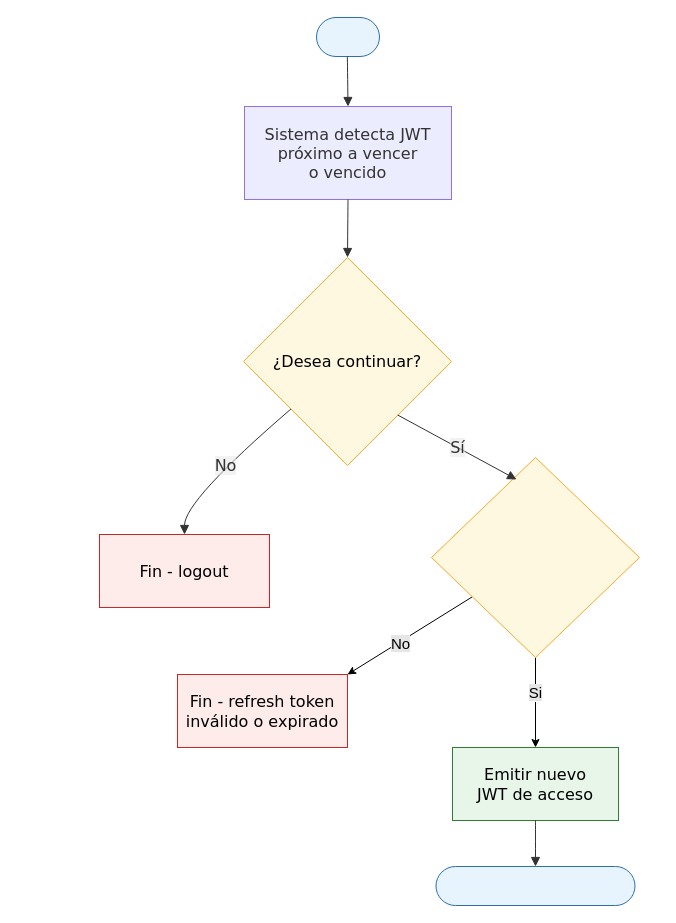
This 676x923 diagram has some shape labels left out. Each missing label, with the box of its shape:
Fin - nuevo JWT emitido: (435, 866, 635, 906)
Inicio: (316, 16, 380, 56)
¿El refresh token existe en Redis?: (430, 456, 640, 658)
